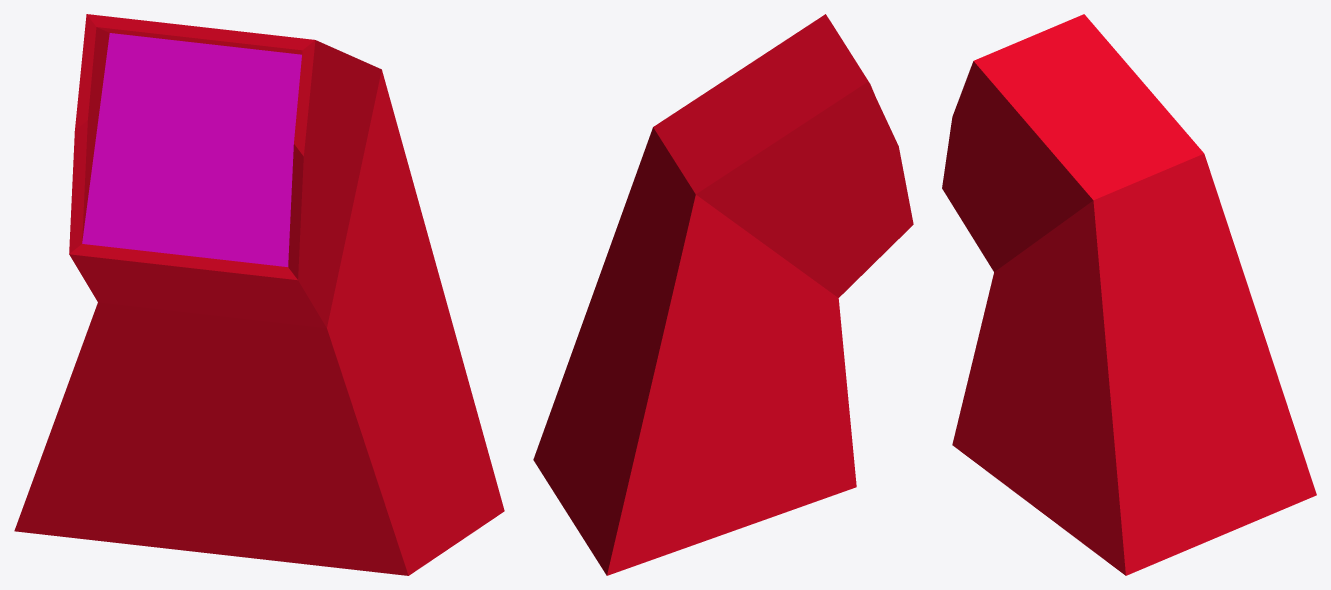
The model's file is SecondaryMonitor.fbx.
The picture shows the model from 3 angles, left to right: view 1: azimuth 30°, elevation 25°; view 2: azimuth 150°, elevation 25°; view 3: azimuth 270°, elevation 25°; orthographic projection. The views are drawn at different scales.
Parts seen in each view (by area): view 1: Console.002, ConsoleScreen.002; view 2: Console.002; view 3: Console.002.
Part boxes in pixels (bbox=[...]): Console.002: bbox=[14, 14, 504, 575]; ConsoleScreen.002: bbox=[82, 33, 301, 266]; Console.002: bbox=[533, 14, 913, 575]; Console.002: bbox=[942, 14, 1316, 575].
Size of the model in its own units: 255 by 313 by 255.
